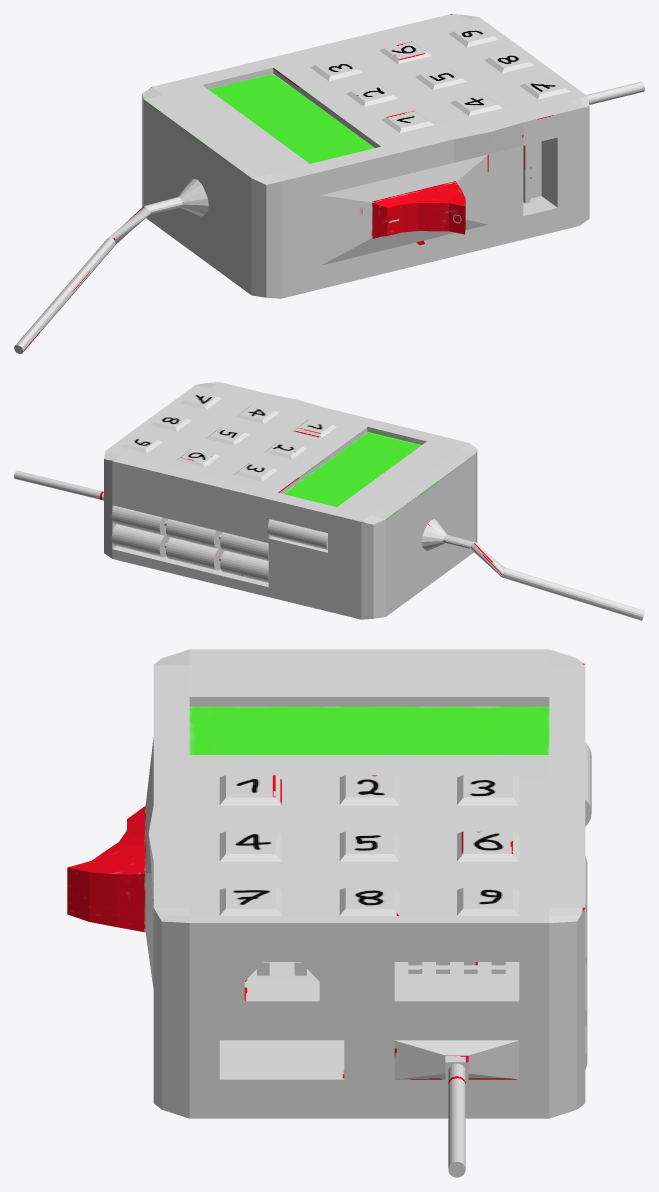
The model's file is Bomb 1.fbx.
3 renders of one model, top to bottom at view 1: azimuth 30°, elevation 25°; view 2: azimuth 150°, elevation 25°; view 3: azimuth 270°, elevation 25°, orthographic. The views are drawn at different scales.
Visible parts, largest first — view 1: Bomb; view 2: Bomb; view 3: Bomb.
Boxes of the visible parts, left/top/right/bottom form: Bomb: left=14, top=14, right=644, bottom=353; Bomb: left=14, top=382, right=644, bottom=620; Bomb: left=67, top=649, right=591, bottom=1177.
Size of the model in its own units: 1232 by 236 by 486.
